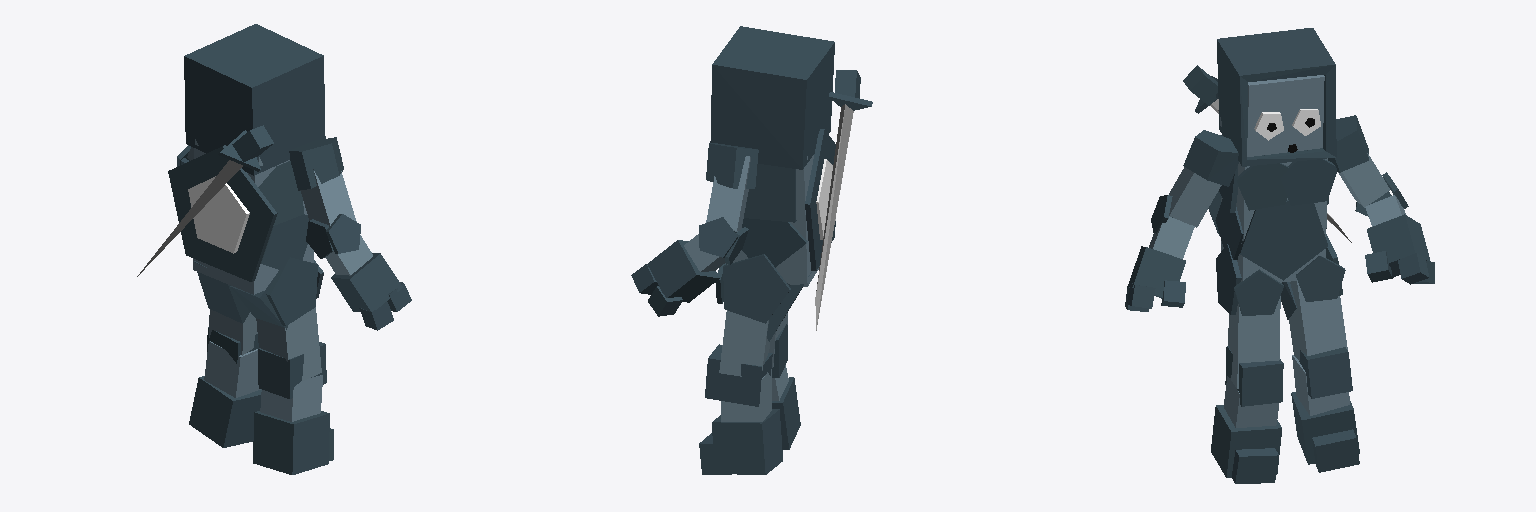
The picture shows the model from 3 angles: view 1: azimuth 30°, elevation 25°; view 2: azimuth 150°, elevation 25°; view 3: azimuth 270°, elevation 25°; orthographic projection.
Visible parts, largest first — view 1: group[number redacted], group[number redacted], group[number redacted], group[number redacted], group[number redacted], group[number redacted], group[number redacted], group[number redacted], group[number redacted], group[number redacted], group[number redacted], group[number redacted] (+14 smaller); view 2: group[number redacted], group[number redacted], group[number redacted], group[number redacted], group[number redacted], group[number redacted], group[number redacted], group[number redacted], group[number redacted], group[number redacted], group[number redacted], group[number redacted] (+10 smaller); view 3: group[number redacted], group[number redacted], group[number redacted], group[number redacted], group[number redacted], group[number redacted], group[number redacted], group[number redacted], group[number redacted], group[number redacted], group[number redacted], group[number redacted] (+22 smaller).
Part boxes in pixels (x1,y1,x2,y2): group[number redacted]: (184,24,325,175); group[number redacted]: (168,145,277,281); group[number redacted]: (253,411,329,474); group[number redacted]: (189,376,261,447); group[number redacted]: (188,176,249,253); group[number redacted]: (256,307,321,381); group[number redacted]: (266,257,317,325); group[number redacted]: (331,253,402,311); group[number redacted]: (204,341,260,397); group[number redacted]: (289,137,343,190); group[number redacted]: (258,342,326,398); group[number redacted]: (260,375,322,421); group[number redacted]: (710,26,834,169); group[number redacted]: (712,409,782,474); group[number redacted]: (723,254,790,323); group[number redacted]: (744,164,796,222); group[number redacted]: (647,240,719,302); group[number redacted]: (719,310,770,376); group[number redacted]: (705,344,772,406); group[number redacted]: (734,218,807,267); group[number redacted]: (815,104,853,330); group[number redacted]: (727,155,819,286); group[number redacted]: (706,143,758,188); group[number redacted]: (805,129,835,270); group[number redacted]: (1217,28,1336,166); group[number redacted]: (1239,200,1327,280); group[number redacted]: (1220,75,1324,156); group[number redacted]: (1289,281,1347,360); group[number redacted]: (1228,296,1280,388); group[number redacted]: (1211,405,1281,477); group[number redacted]: (1183,130,1238,186); group[number redacted]: (1367,214,1429,277); group[number redacted]: (1225,346,1283,406); group[number redacted]: (1299,347,1352,398); group[number redacted]: (1280,150,1336,205); group[number redacted]: (1291,392,1359,464).
Size of the model in its own units: 0.1821 by 0.4222 by 0.2893.